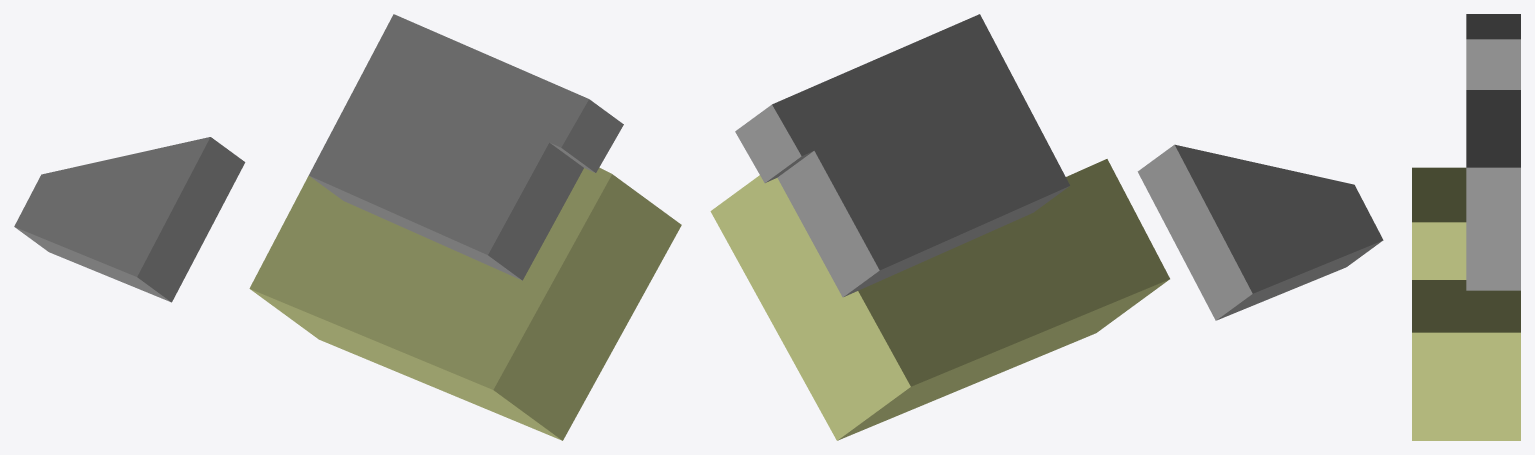
The picture shows the model from 3 angles, left to right: view 1: azimuth 30°, elevation 25°; view 2: azimuth 150°, elevation 25°; view 3: azimuth 270°, elevation 25°; orthographic projection. The views are drawn at different scales.
Visible parts, largest first — view 1: 0_1_0_0_0_2_0_3_1; view 2: 0_1_0_0_0_2_0_3_1; view 3: 0_1_0_0_0_2_0_3_1.
Part boxes in pixels (x1,y1,x2,y2): 0_1_0_0_0_2_0_3_1: (14,14,681,440); 0_1_0_0_0_2_0_3_1: (710,14,1383,440); 0_1_0_0_0_2_0_3_1: (1412,14,1520,440).
Size of the model in its own units: 29.79 by 19.05 by 6.
